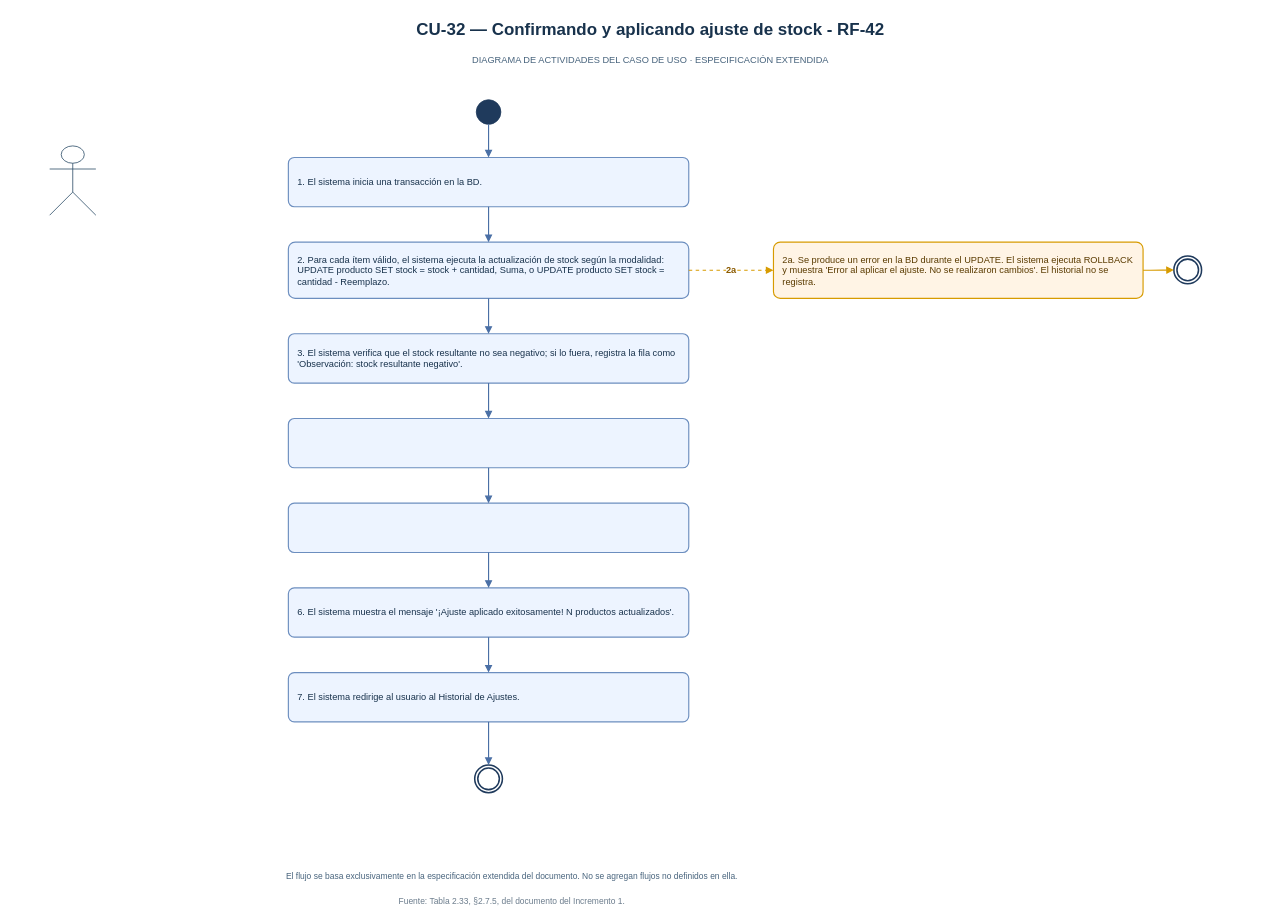
This 1272x923 diagram has some shape labels left out. The shapes that lost their labels are listed below. From the top down, each one's box as (x1, y1, x2, y2) in pixels, then its label:
(49, 145, 96, 215): Administrador / Bodeguero
(287, 418, 689, 468): 4. El sistema confirma la transacción con COMMIT.
(287, 502, 689, 553): 5. El sistema invoca CU-33 para registrar el historial de cambios.
